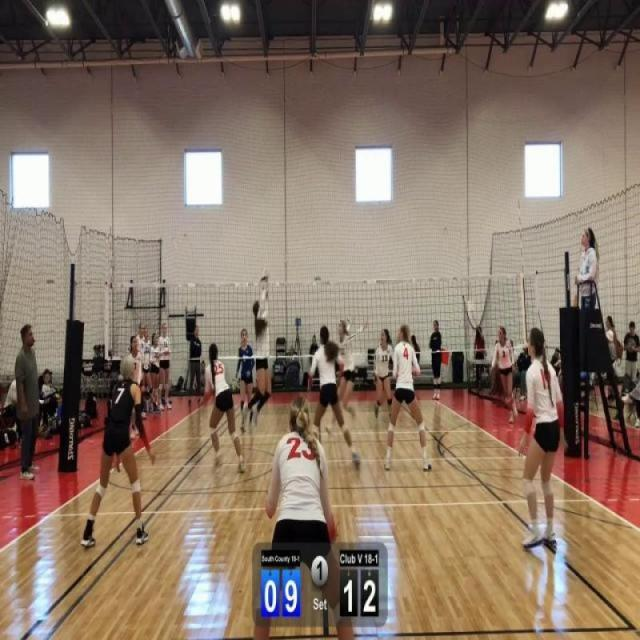volleyball: (259, 267, 270, 282)
